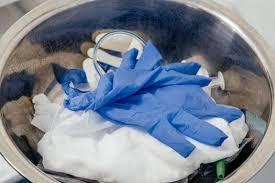Glove: (62, 42, 240, 156)
